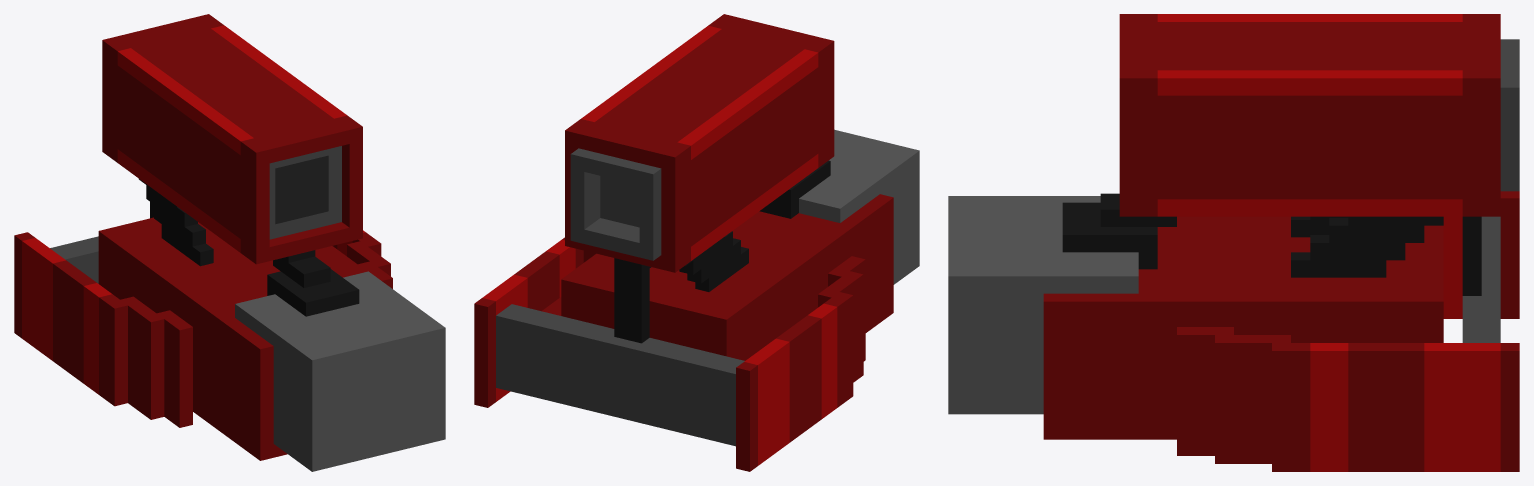
Rendered from enemyship.dae.
The picture shows the model from 3 angles, left to right: view 1: azimuth 30°, elevation 25°; view 2: azimuth 150°, elevation 25°; view 3: azimuth 270°, elevation 25°; orthographic projection. The views are drawn at different scales.
Parts seen in each view (by area): view 1: ObjObject; view 2: ObjObject; view 3: ObjObject.
Part boxes in pixels (x1=…): ObjObject: x1=14, y1=14, x2=445, y2=471; ObjObject: x1=474, y1=14, x2=919, y2=471; ObjObject: x1=948, y1=14, x2=1519, y2=471.
Size of the model in its own units: 2 by 3 by 2.
Materials: 1 (1 with a texture image).
